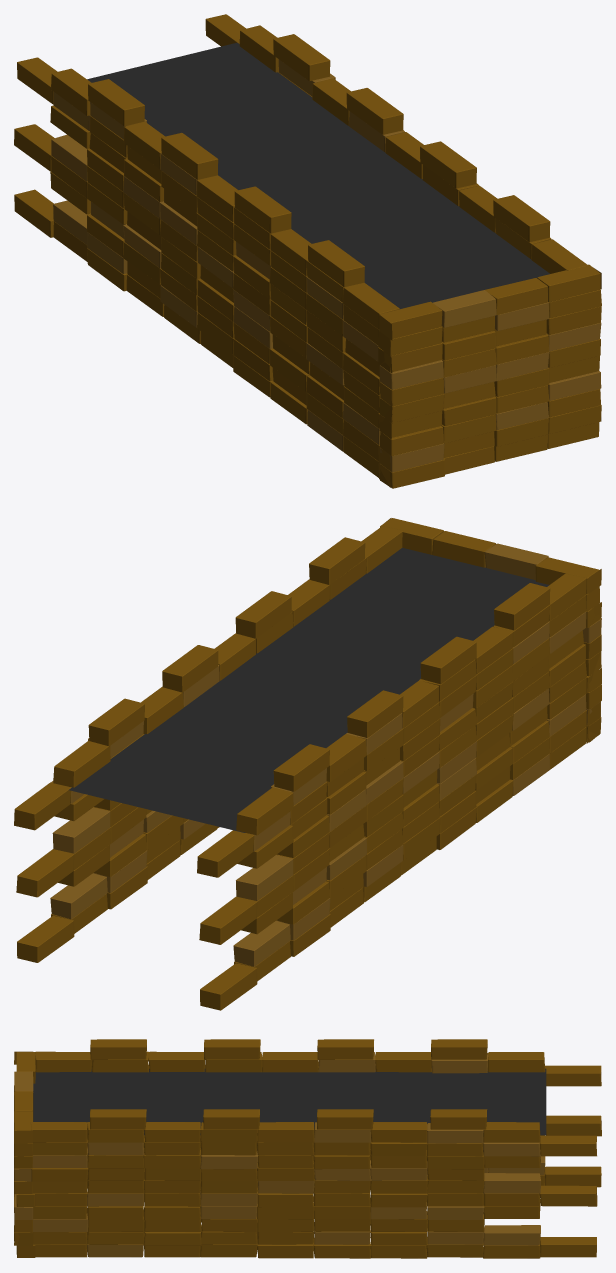
The model's file is Wall_BlockLeft.fbx.
The picture shows the model from 3 angles, top to bottom: view 1: azimuth 30°, elevation 25°; view 2: azimuth 150°, elevation 25°; view 3: azimuth 270°, elevation 25°; orthographic projection. The views are drawn at different scales.
Parts seen in each view (by area): view 1: Cube.030, Plane.002, Cube.026, Cube.032, Cube.033, Cube.031; view 2: Cube.030, Plane.002, Cube.032, Cube.026, Cube.033, Cube.031; view 3: Cube.032, Plane.002, Cube.030, Cube.031, Cube.033, Cube.026.
Part boxes in pixels (x1=…): Cube.030: x1=14, y1=57, x2=399, y2=477; Plane.002: x1=87, y1=42, x2=549, y2=308; Cube.026: x1=378, y1=264, x2=601, y2=488; Cube.032: x1=205, y1=14, x2=587, y2=273; Cube.033: x1=273, y1=34, x2=550, y2=242; Cube.031: x1=88, y1=79, x2=364, y2=286; Cube.030: x1=197, y1=573, x2=586, y2=1010; Plane.002: x1=69, y1=548, x2=549, y2=832; Cube.032: x1=14, y1=526, x2=403, y2=962; Cube.026: x1=380, y1=518, x2=601, y2=743; Cube.033: x1=88, y1=537, x2=365, y2=746; Cube.031: x1=273, y1=583, x2=550, y2=791; Cube.032: x1=30, y1=1122, x2=597, y2=1258; Plane.002: x1=33, y1=1068, x2=546, y2=1135; Cube.030: x1=35, y1=1051, x2=601, y2=1187; Cube.031: x1=90, y1=1039, x2=487, y2=1059; Cube.033: x1=90, y1=1109, x2=487, y2=1129; Cube.026: x1=14, y1=1051, x2=35, y2=1257.
Bounding box in the file's own units: 5.76 × 4.73 × 17.92.
